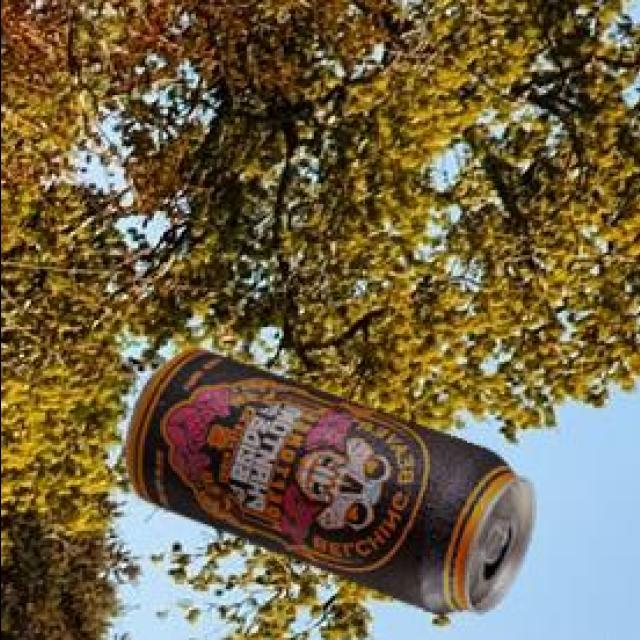logam: (129, 351, 537, 618)
